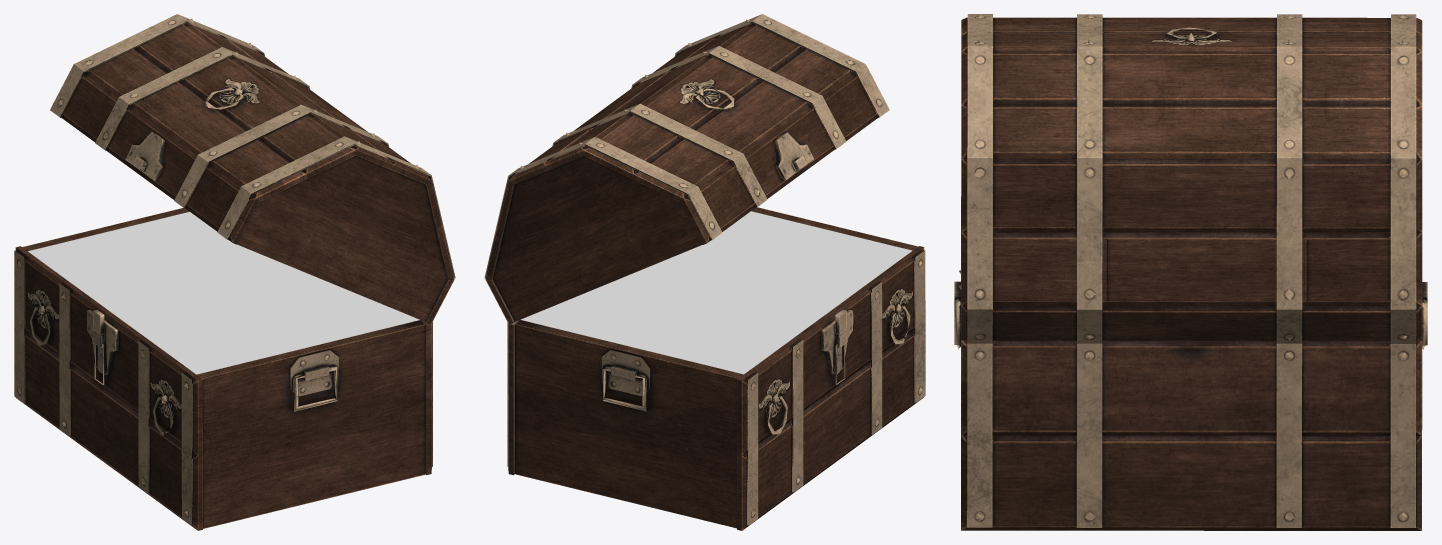
The model's file is treasure-chest-low.glb.
3 views of the same model, side by side, from view 1: azimuth 30°, elevation 25°; view 2: azimuth 150°, elevation 25°; view 3: azimuth 270°, elevation 25° (orthographic). The views are drawn at different scales.
Parts seen in each view (by area): view 1: chest_body, chest_inside; view 2: chest_body, chest_inside; view 3: chest_body.
Part boxes in pixels (x1,y1,x2,y2): chest_body: [14, 14, 455, 530]; chest_inside: [28, 212, 419, 374]; chest_body: [484, 14, 925, 530]; chest_inside: [521, 211, 911, 374]; chest_body: [954, 14, 1427, 530].
Size of the model in its own units: 56.52 by 69.13 by 67.58.
Materials: 2 (1 with a texture image).
